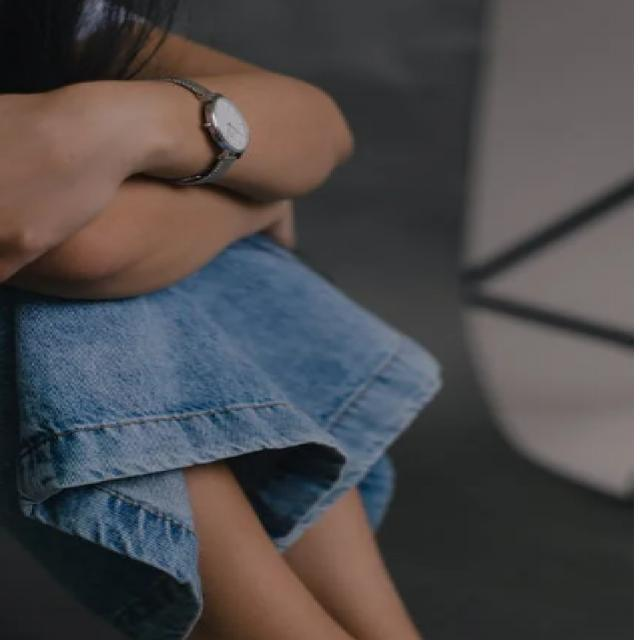Watch: (156, 68, 255, 194)
